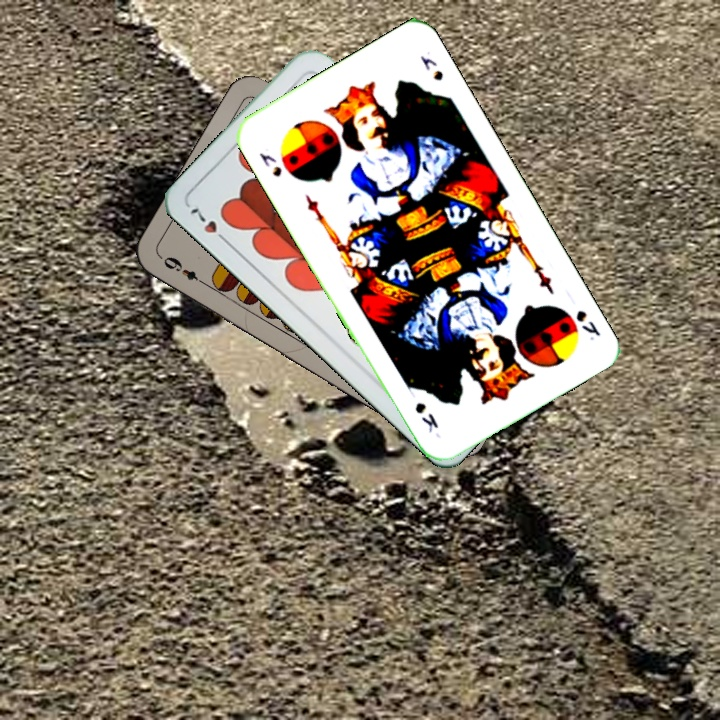E9: (159, 252, 210, 289)
H7: (185, 204, 233, 248)
SK: (572, 306, 604, 343), (255, 148, 285, 180)
